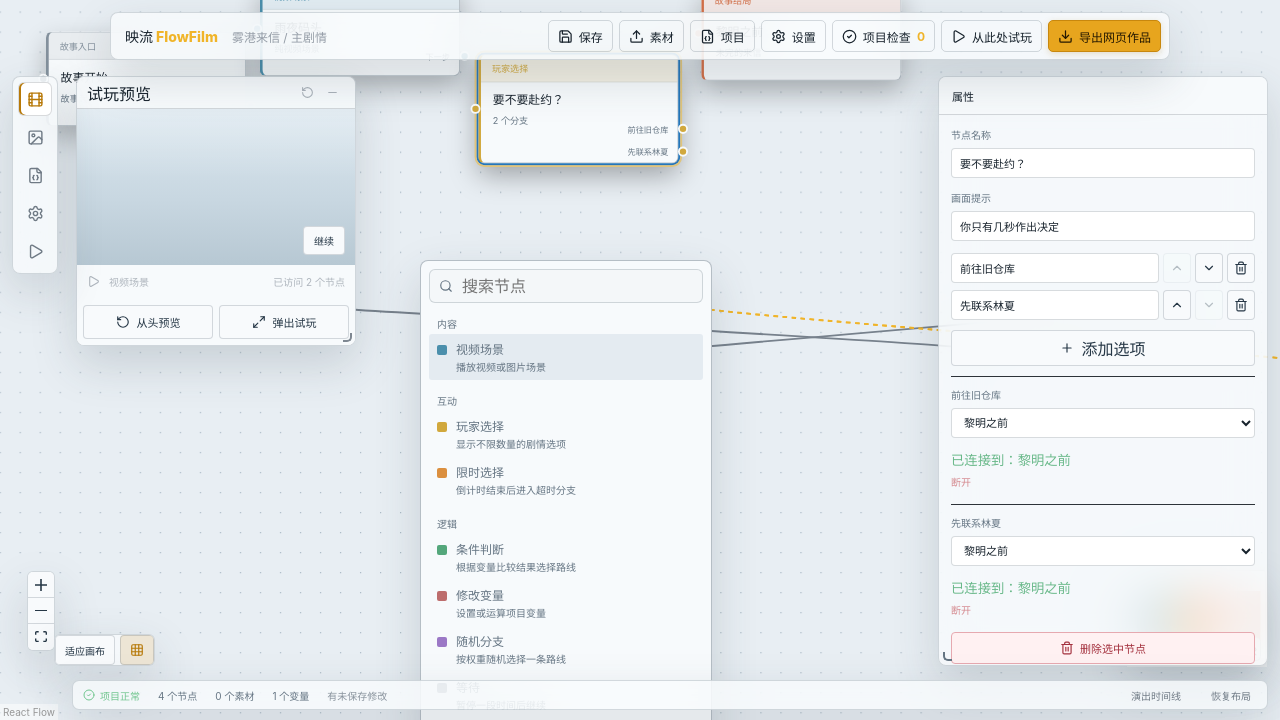
Test case: editor workbench › creates a scene and connects the selected node
Earlier steps of the test are not shown.
Click the button "视频场景 播放视频或图片场景".
click(480, 350)  # box [429,334,703,380]
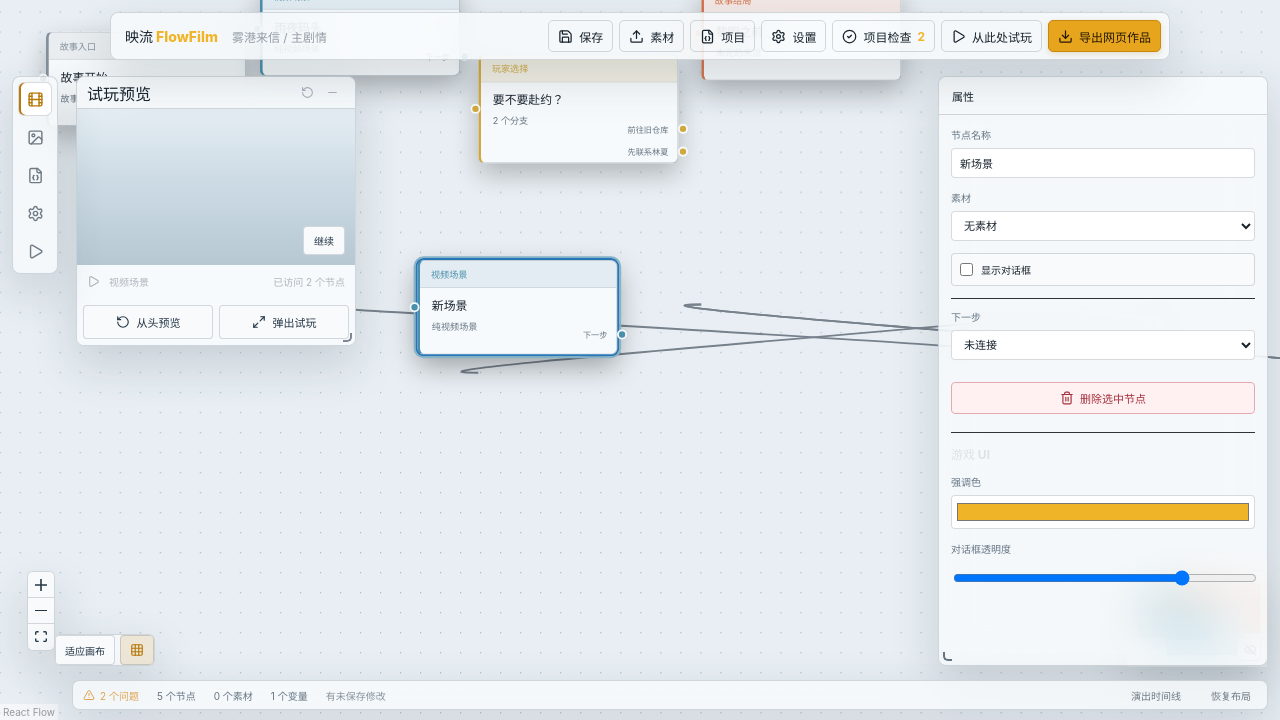
Check: the button "视频场景 新场景 纯视频场景" is shown, box [420,261,617,344]
Select "黎明之前" in the dropdown named "连接到" at coordinates (1103, 345), box [951,330,1255,360]
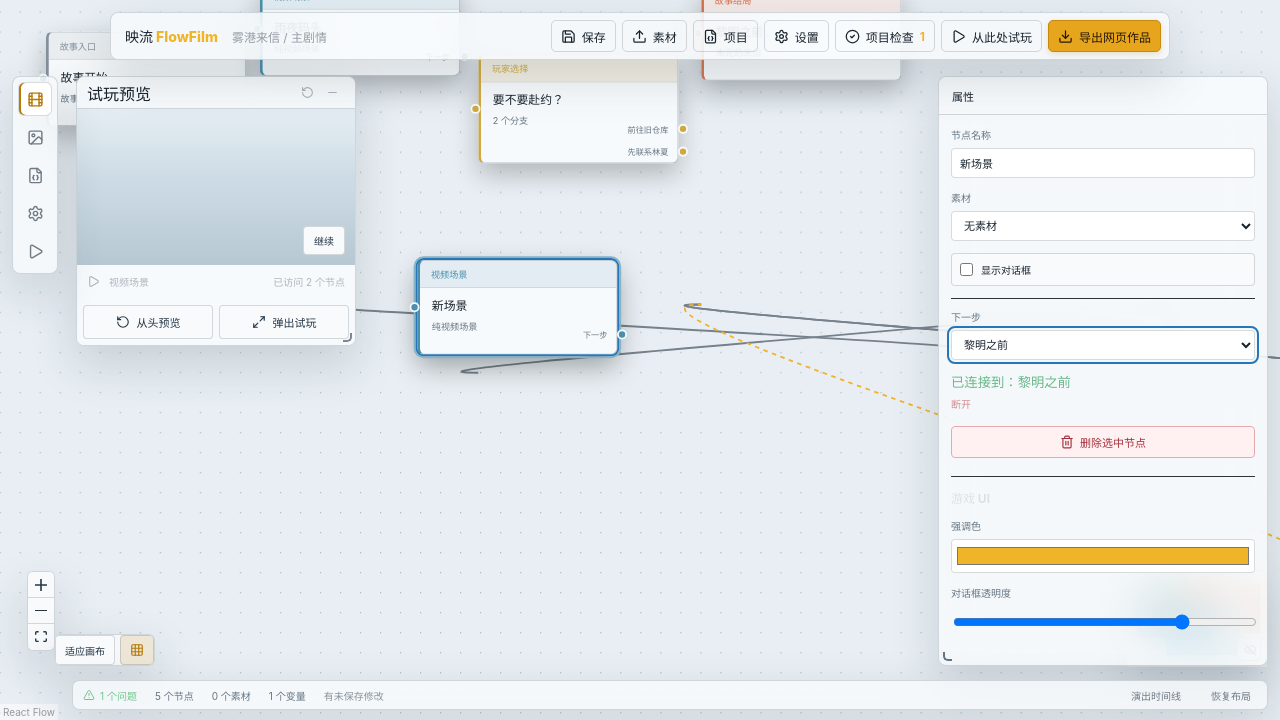
Check: the text "已连接到：黎明之前" is shown, box [951,374,1071,390]
